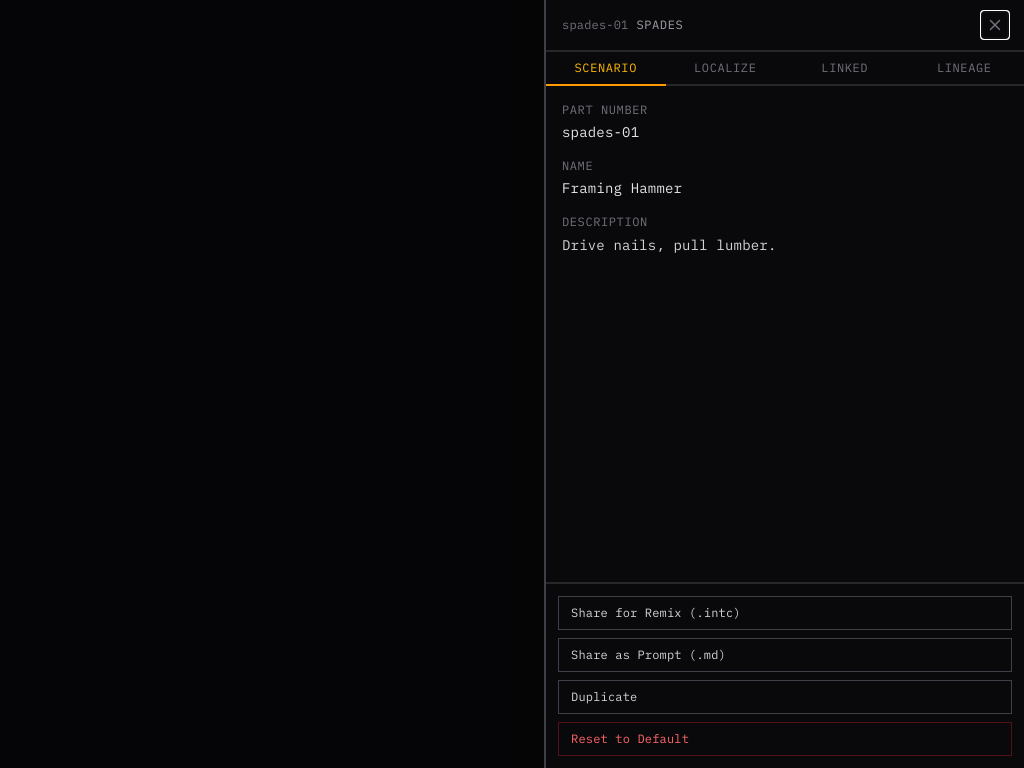
Scenario: CardDetailSheet › Reset to Default shows confirmation modal
Click the button "Reset to Default".
click(630, 738)  # box [558, 722, 1012, 756]
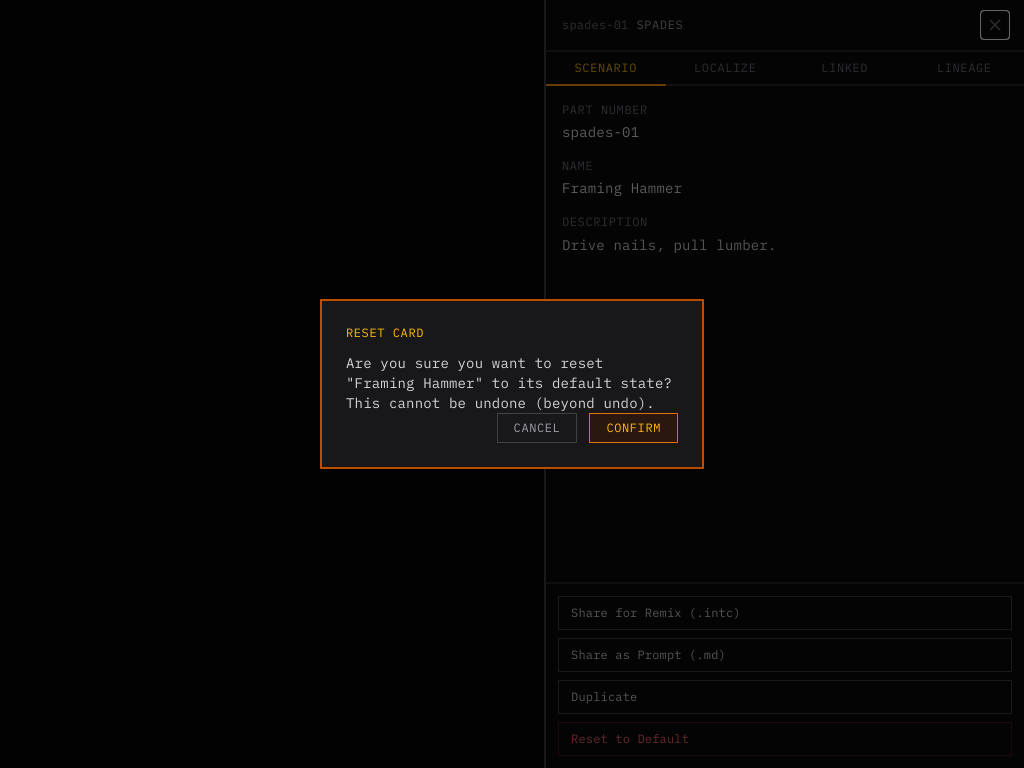
Check: the text "Are you sure" is shown, box [346, 354, 672, 412]
Check: the button "Cancel" is shown, box [497, 413, 577, 443]
Check: the button "Confirm" is shown, box [589, 413, 678, 443]
